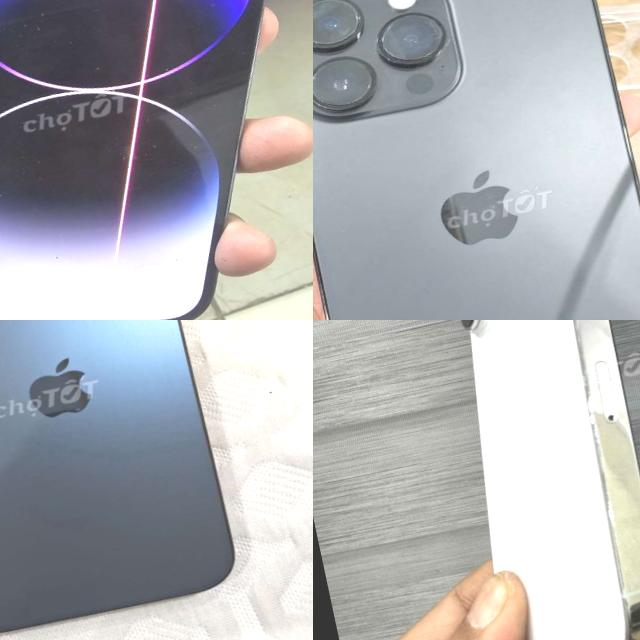scratch: (313, 43, 389, 117), (313, 0, 365, 55), (421, 7, 466, 67)
